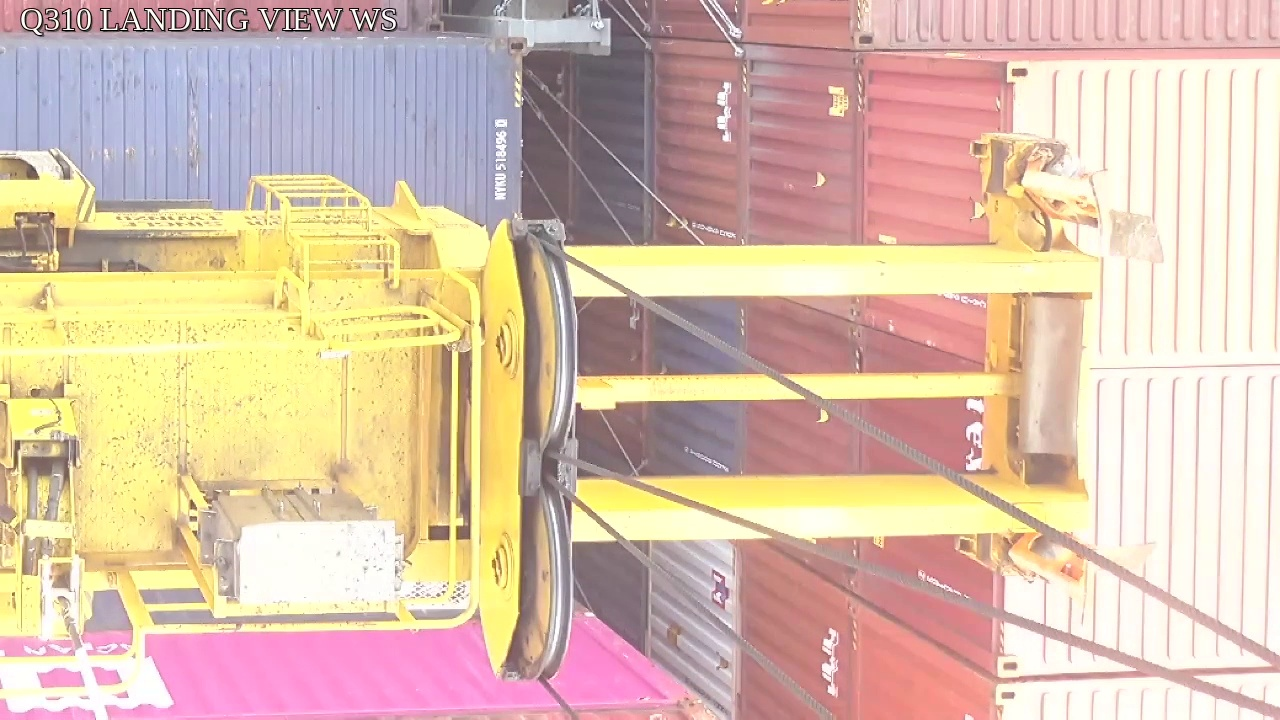right: (477, 218, 579, 685)
